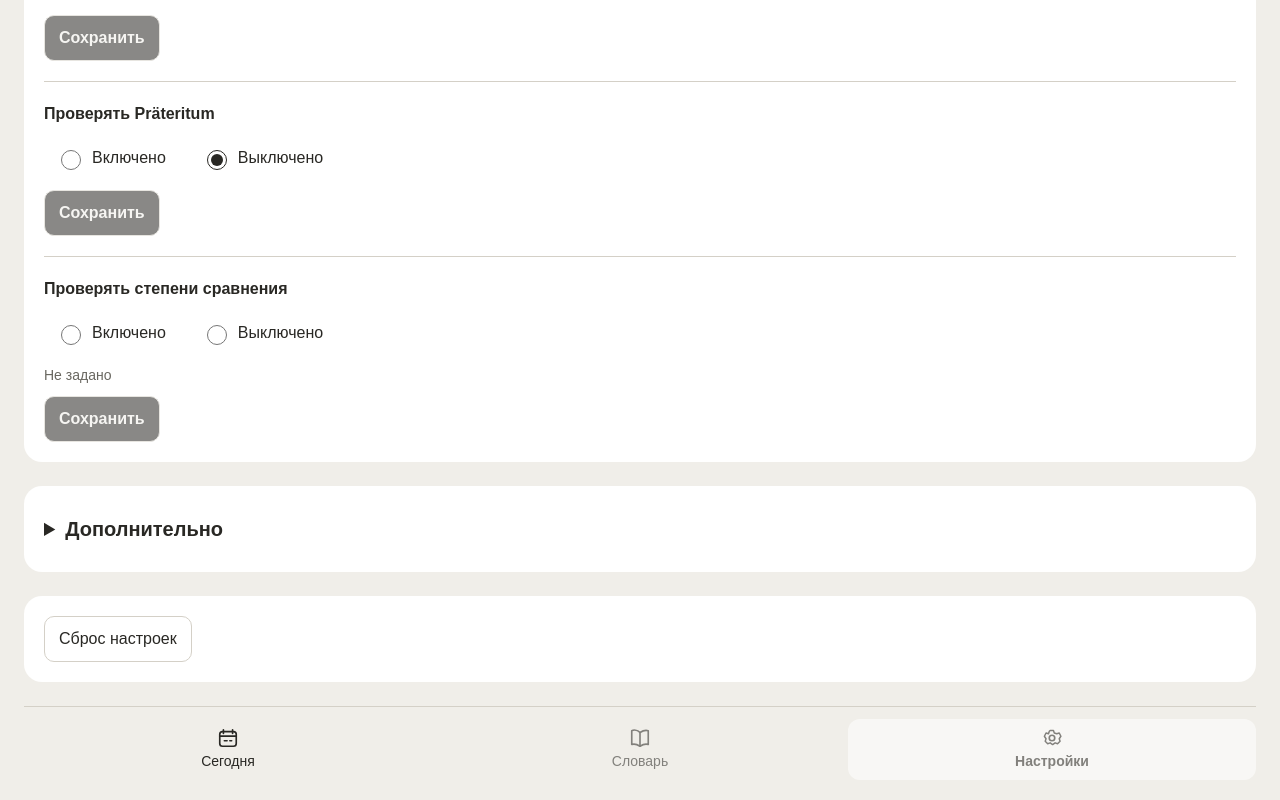
Test: returning the initial settings (M-SET-RESET, D-SET-RESET 4.1, 5.3.1) › asks first with the approved Q08 text, which names only the general blocks
(page scrolled)
Step 1. Click the button "Сброс настроек" → (118, 639), box 44,616 -> 192,662
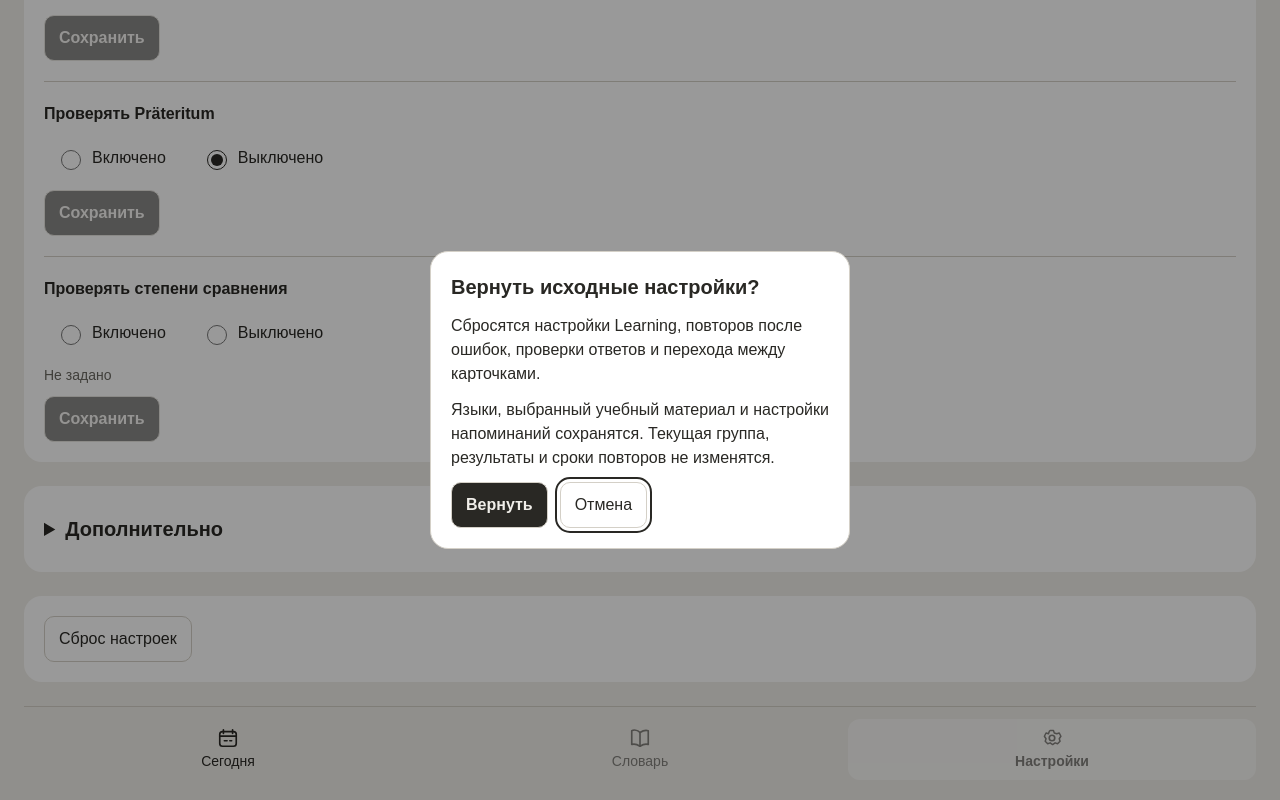
Expected: the dialog "Вернуть исходные настройки?" does not show "Проверять Präteritum"
Expected: the buttons read "Вернуть", "Отмена", in this order, 451,482 -> 548,528; 560,482 -> 647,528
